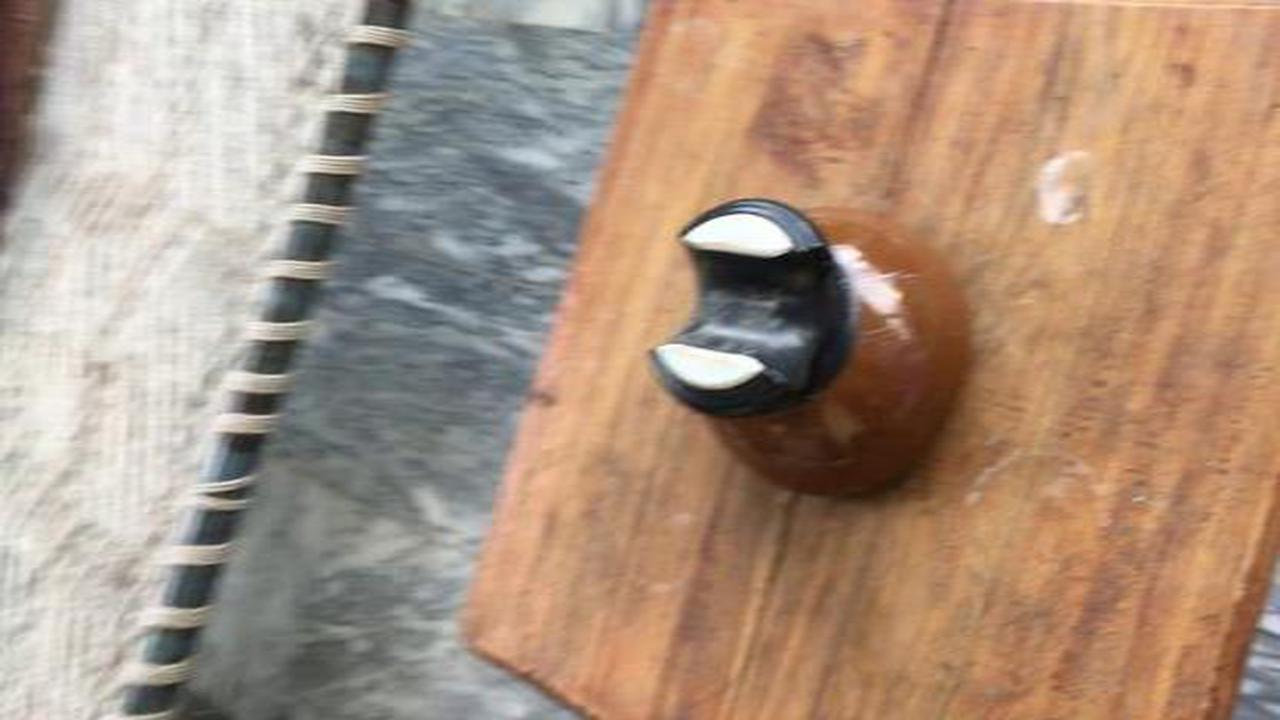insulator_pin: (619, 177, 994, 520)
